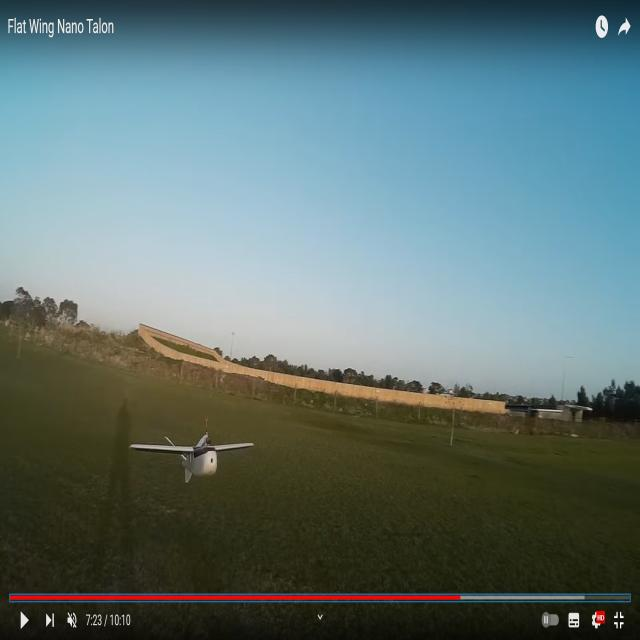iha: (163, 423, 224, 482)
